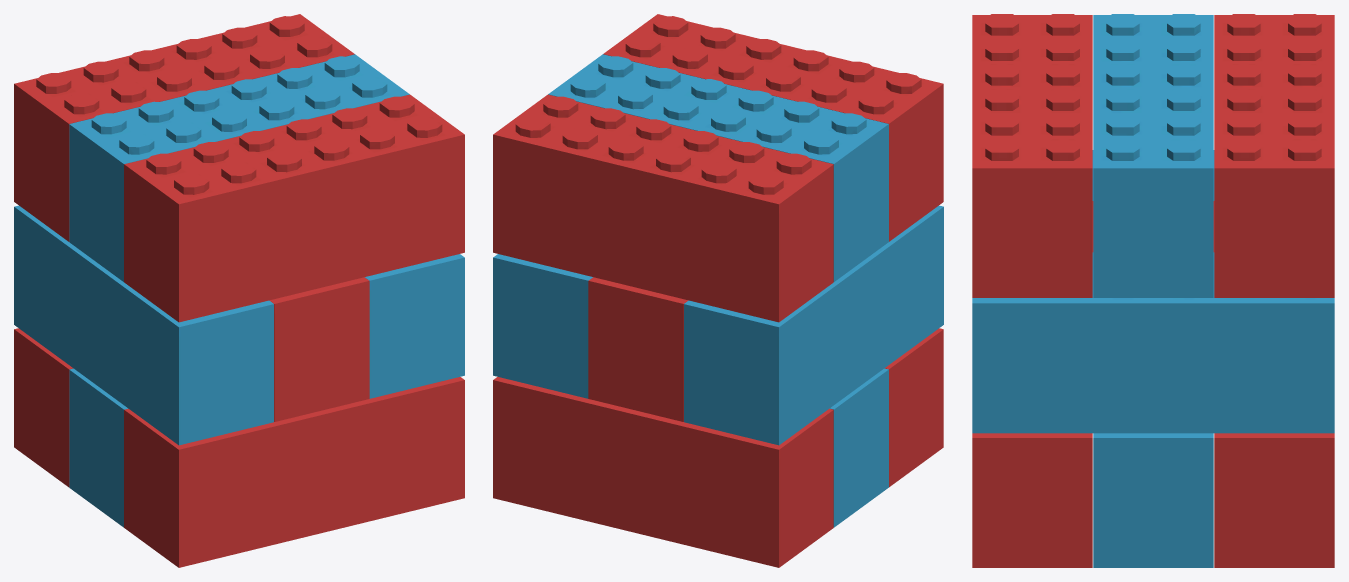
File: InteractableBlock3x3.fbx
3 views of the same model, side by side, from view 1: azimuth 30°, elevation 25°; view 2: azimuth 150°, elevation 25°; view 3: azimuth 270°, elevation 25° (orthographic). The views are drawn at different scales.
Parts seen in each view (by area): view 1: Cube.035; view 2: Cube.035; view 3: Cube.035.
Part boxes in pixels (box(x1,y1,x2,y2)): Cube.035: box(14, 14, 464, 567); Cube.035: box(493, 14, 943, 567); Cube.035: box(972, 14, 1334, 567).
Size of the model in its own units: 457 by 566 by 456.
